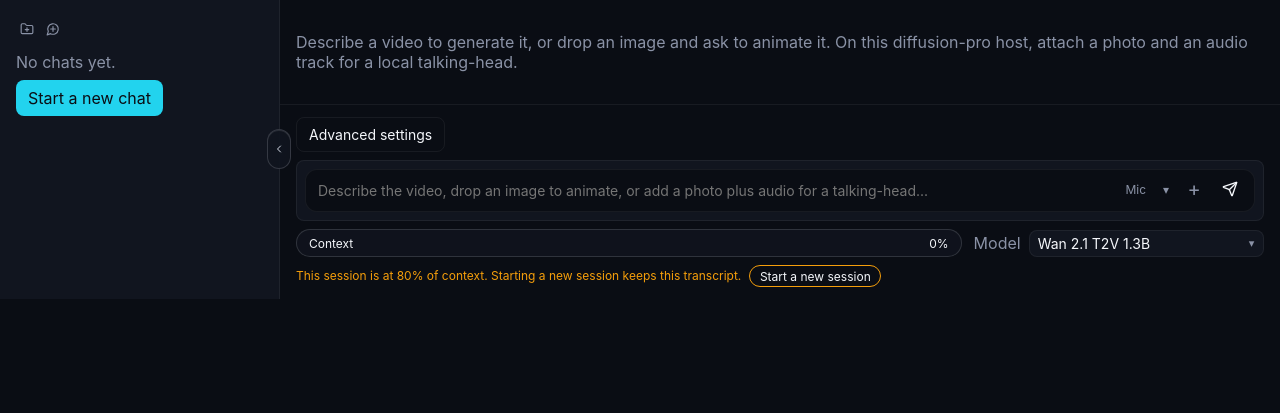
Test case: VideoLabPage (chat) › surfaces an error event in the assistant bubble
Replace the text in the text box with test id "media-composer-textarea" with "x" at {"x": 780, "y": 190}, box [306,170,1254,211]
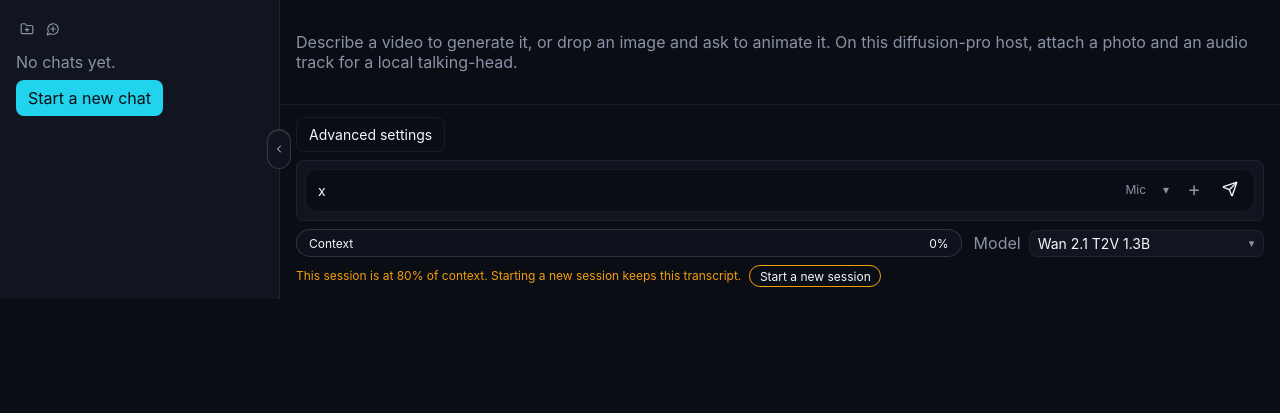
Click the button with test id "media-composer-submit" at {"x": 1230, "y": 189}, box [1214,173,1246,205]
Wait 50 ms
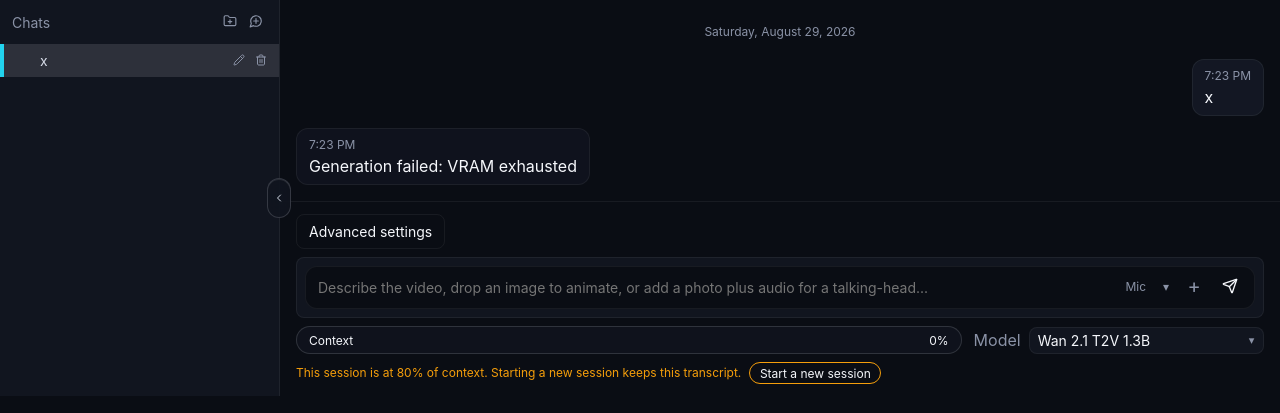
Check: the text "Generation failed: VRAM exhausted" is shown, box [309,156,577,176]
